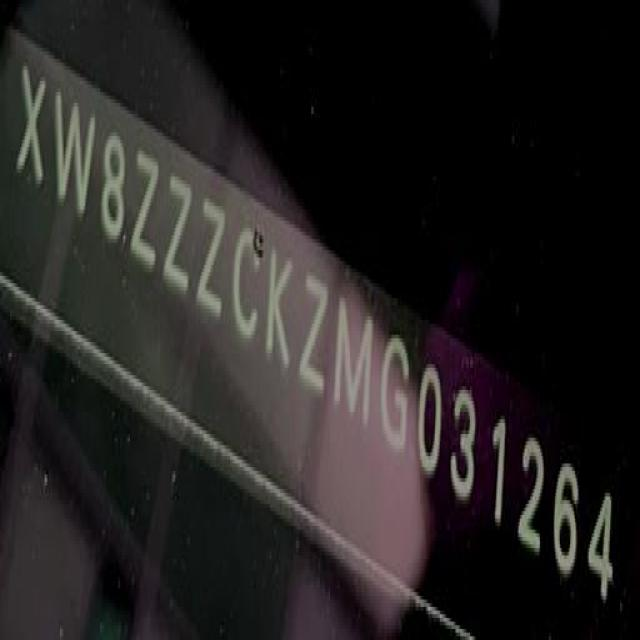0: (419, 360, 444, 478)
1: (487, 408, 509, 532)
2: (514, 435, 545, 554)
3: (450, 382, 480, 517)
6: (551, 466, 581, 580), (588, 494, 614, 610)
8: (101, 129, 127, 245)
C: (231, 225, 261, 346)
G: (377, 334, 413, 460)
K: (266, 250, 296, 370)
M: (332, 299, 374, 429)
W: (54, 88, 95, 223)
X: (16, 54, 47, 198)
Z: (163, 174, 195, 306), (300, 268, 332, 396), (131, 143, 161, 274), (198, 198, 226, 322)
